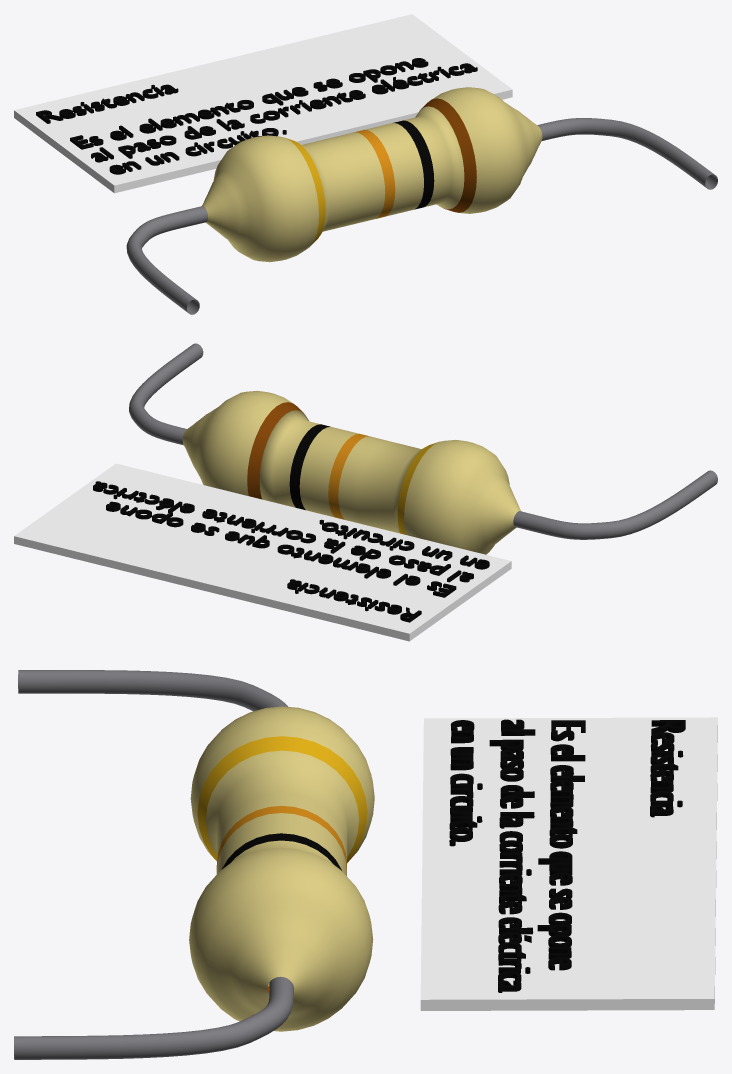
The model's file is resistencia.glb.
3 renders of one model, top to bottom at view 1: azimuth 30°, elevation 25°; view 2: azimuth 150°, elevation 25°; view 3: azimuth 270°, elevation 25°, orthographic. The views are drawn at different scales.
Parts seen in each view (by area): view 1: Resistor10K, Cubo, Texto.001; view 2: Resistor10K, Cubo, Texto.001; view 3: Cubo, Resistor10K, Texto.001.
Boxes of the visible parts, x1,y1,x2,y2 form: Resistor10K: [126, 87, 717, 314]; Cubo: [14, 14, 512, 193]; Texto.001: [36, 58, 477, 174]; Resistor10K: [129, 343, 717, 554]; Cubo: [14, 463, 511, 641]; Texto.001: [93, 481, 489, 622]; Cubo: [420, 717, 717, 1010]; Resistor10K: [14, 670, 374, 1059]; Texto.001: [449, 719, 685, 992].
Size of the model in its own units: 2.77 by 0.5752 by 2.2.
